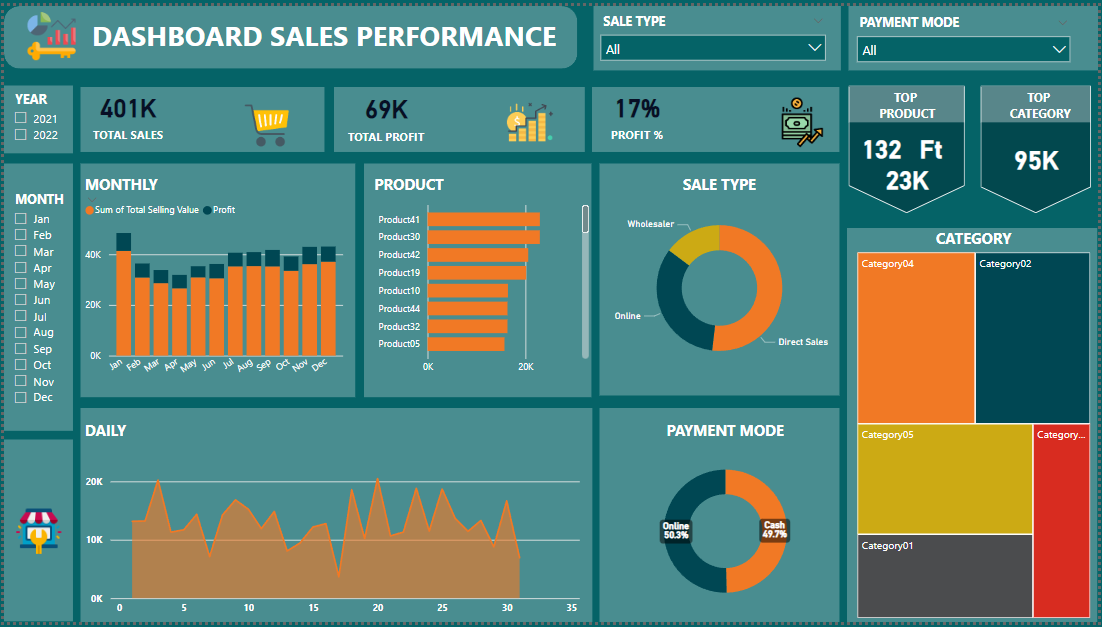

This screenshot's page, from the dashboard's own definition file:
{"tool":"powerbi","page":{"name":"Page 1","canvas":[1280,720],"ordinal":0},"visuals":[{"type":"shape","box":[987.5,0,292.9,75],"z":0},{"type":"shape","box":[689.3,0,289.3,75],"z":1000},{"type":"shape","box":[986.8,258.8,292.6,461.8],"z":2000},{"type":"shape","box":[89.2,469.9,598.9,250.5],"z":3000},{"type":"shape","box":[696.8,469.9,280.6,250.5],"z":4000},{"type":"shape","box":[696.4,183.9,280.4,271.4],"z":5000},{"type":"shape","box":[421.4,183.9,266.1,273.2],"z":6000},{"type":"shape","box":[89.7,183.5,321.6,273.2],"z":7000},{"type":"shape","box":[688,94.7,289.3,76],"z":8000},{"type":"shape","box":[988,93.3,136,149.3],"z":9000},{"type":"shape","box":[1142.7,93.3,129.3,149.3],"z":10000},{"type":"shape","box":[988,94.7,136,41.3],"z":11000},{"type":"shape","box":[385.3,94.7,293.3,76],"z":12000},{"type":"shape","box":[89.3,94.7,285.3,76],"z":13000},{"type":"shape","box":[0,0,670.6,73.6],"z":14000},{"type":"slicer","fields":{"Values":["InputData.PAYMENT MODE"]},"box":[987.5,3.6,269.6,71.4],"z":15000},{"type":"slicer","fields":{"Values":["InputData.SALE TYPE"]},"box":[687.8,1.6,283.6,72.1],"z":16000},{"type":"slicer","fields":{"Values":["InputData.Year"]},"box":[0,92.4,120.6,108.1],"z":17000},{"type":"slicer","fields":{"Values":["InputData.Month Name"]},"box":[0,210.3,122.1,260.3],"z":18000},{"type":"card","fields":{"Values":["Sum(InputData.Total Selling Value)"]},"box":[89.3,82.7,110.7,88],"z":19000},{"type":"textbox","box":[89.5,6.7,570.3,65.8],"z":19500,"group":"g1"},{"type":"card","fields":{"Values":["InputData.Profit %"]},"box":[678.7,82.7,122.7,88],"z":20000},{"type":"card","fields":{"Values":["Sum(InputData.Total Selling Value)"]},"box":[1017.3,154.7,77.3,88],"z":21000},{"type":"card","fields":{"Values":["Sum(InputData.Total Selling Value)"]},"box":[1156,141.3,101.3,73.3],"z":22000},{"type":"card","fields":{"Values":["Sum(InputData.QUANTITY)"]},"box":[996,128,60,58.7],"z":23000},{"type":"card","fields":{"Values":["Min(InputData.MasterData.UOM)"]},"box":[1056,130.7,56,53.3],"z":24000},{"type":"card","fields":{"Values":["InputData.Profit"]},"box":[385.3,84,121.3,88],"z":25000},{"type":"columnChart","title":"MONTHLY","fields":{"Category":["InputData.Month Name"],"Y":["Sum(InputData.Total Selling Value)","InputData.Profit"]},"box":[89.3,196.4,312.5,244.6],"z":26000},{"type":"clusteredBarChart","title":"PRODUCT","fields":{"Y":["Sum(InputData.Total Selling Value)"],"Category":["InputData.MasterData.PRODUCT"]},"box":[428.6,196.4,260.7,242.9],"z":27000},{"type":"areaChart","title":"DAILY","fields":{"Y":["Sum(InputData.Total Selling Value)"],"Category":["InputData.Day"]},"box":[89.3,484.1,589.1,236.6],"z":28000},{"type":"donutChart","title":"SALE TYPE","fields":{"Y":["Sum(InputData.Total Selling Value)"],"Category":["InputData.SALE TYPE"]},"box":[701.8,196.4,269.6,242.9],"z":29000},{"type":"donutChart","title":"PAYMENT MODE","fields":{"Y":["Sum(InputData.Total Selling Value)"],"Series":["InputData.PAYMENT MODE"]},"box":[708.2,484.1,269.5,236.6],"z":30000},{"type":"treemap","title":"CATEGORY","fields":{"Group":["InputData.MasterData.CATEGORY"],"Values":["Sum(InputData.Total Selling Value)"]},"box":[992.9,258.9,282.1,460.7],"z":31000},{"type":"group","id":"g1","title":"Group 1","box":[89.5,6.7,570.3,65.8],"z":32000},{"type":"textbox","box":[1006.7,90.7,98.7,49.3],"z":33000},{"type":"shape","box":[1142.9,94.6,128.6,41.1],"z":34000},{"type":"image","box":[12.5,0,86.2,70.5],"z":35000},{"type":"textbox","box":[1161.3,90.7,101.3,52],"z":36000},{"type":"image","box":[245.3,109.3,122.7,61.3],"z":37000},{"type":"image","box":[894.7,101.3,77.3,68],"z":38000},{"type":"image","box":[550.7,104,128,64],"z":39000},{"type":"shape","box":[0,92.2,80.5,79.2],"z":40000},{"type":"shape","box":[0,183.9,80.4,312.5],"z":41000},{"type":"shape","box":[0,507.1,80.4,212.5],"z":41001}]}

Visuals, with their boxes in screenshot pixels (x1, y1, x2, y2), scaled from the page's 1280x720 canvas onto the 1102x627 screenshot:
shape: locate(850, 0, 1101, 65)
shape: locate(593, 0, 843, 65)
shape: locate(850, 225, 1101, 626)
shape: locate(77, 409, 592, 626)
shape: locate(600, 409, 841, 626)
shape: locate(600, 160, 841, 396)
shape: locate(363, 160, 592, 398)
shape: locate(77, 160, 354, 398)
shape: locate(592, 82, 841, 149)
shape: locate(851, 81, 968, 211)
shape: locate(984, 81, 1095, 211)
shape: locate(851, 82, 968, 118)
shape: locate(332, 82, 584, 149)
shape: locate(77, 82, 323, 149)
shape: locate(0, 0, 577, 64)
slicer - InputData.PAYMENT MODE: locate(850, 3, 1082, 65)
slicer - InputData.SALE TYPE: locate(592, 1, 836, 64)
slicer - InputData.Year: locate(0, 80, 104, 175)
slicer - InputData.Month Name: locate(0, 183, 105, 410)
card - Sum(InputData.Total Selling Value): locate(77, 72, 172, 149)
textbox: locate(77, 6, 568, 63)
card - InputData.Profit %: locate(584, 72, 690, 149)
card - Sum(InputData.Total Selling Value): locate(876, 135, 942, 211)
card - Sum(InputData.Total Selling Value): locate(995, 123, 1082, 187)
card - Sum(InputData.QUANTITY): locate(857, 111, 909, 163)
card - Min(InputData.MasterData.UOM): locate(909, 114, 957, 160)
card - InputData.Profit: locate(332, 73, 436, 150)
"MONTHLY" columnChart: locate(77, 171, 346, 384)
"PRODUCT" clusteredBarChart: locate(369, 171, 593, 383)
"DAILY" areaChart: locate(77, 422, 584, 626)
"SALE TYPE" donutChart: locate(604, 171, 836, 383)
"PAYMENT MODE" donutChart: locate(610, 422, 842, 626)
"CATEGORY" treemap: locate(855, 225, 1098, 626)
"Group 1" group: locate(77, 6, 568, 63)
textbox: locate(867, 79, 952, 122)
shape: locate(984, 82, 1095, 118)
image: locate(11, 0, 85, 61)
textbox: locate(1000, 79, 1087, 124)
image: locate(211, 95, 317, 149)
image: locate(770, 88, 837, 147)
image: locate(474, 91, 584, 146)
shape: locate(0, 80, 69, 149)
shape: locate(0, 160, 69, 432)
shape: locate(0, 442, 69, 626)
